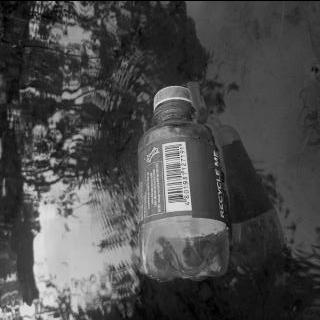bottle: (137, 84, 231, 280)
